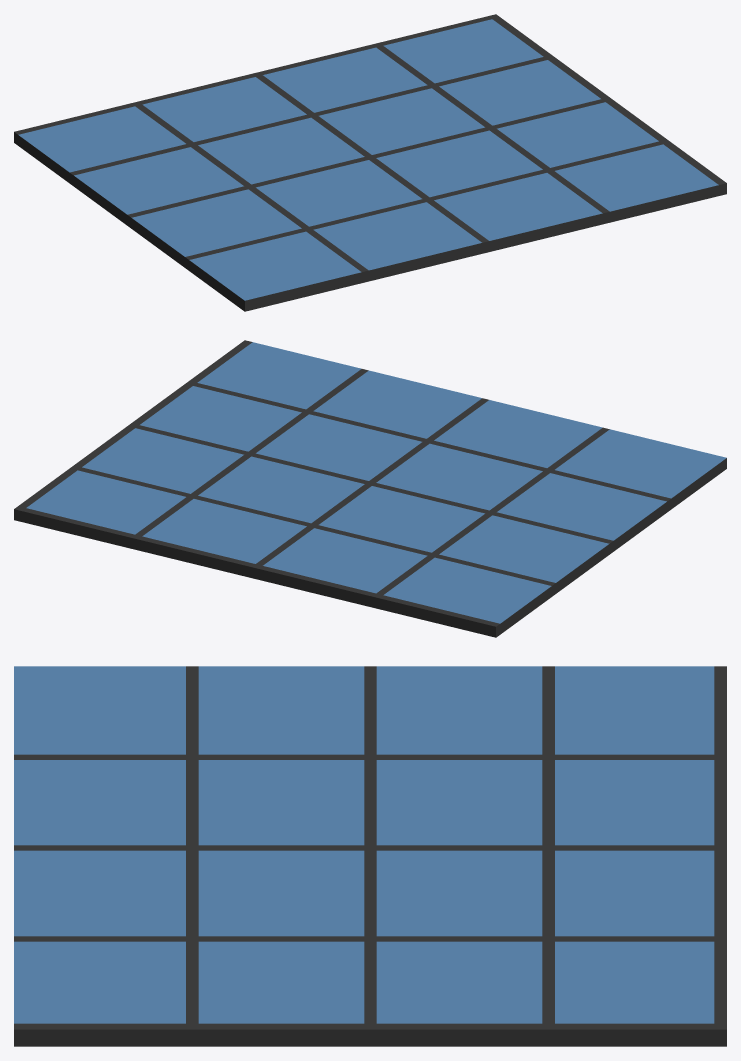
Rendered from SecurityRoomFloor.fbx.
3 views of the same model, one above another, from view 1: azimuth 30°, elevation 25°; view 2: azimuth 150°, elevation 25°; view 3: azimuth 270°, elevation 25° (orthographic). The views are drawn at different scales.
Parts seen in each view (by area): view 1: SecurityRoomFloor; view 2: SecurityRoomFloor; view 3: SecurityRoomFloor.
Boxes of the visible parts, bbox=[...] form: SecurityRoomFloor: bbox=[14, 14, 726, 311]; SecurityRoomFloor: bbox=[14, 340, 726, 637]; SecurityRoomFloor: bbox=[14, 666, 726, 1046].
Bounding box in the file's own units: 1191 × 25.95 × 988.
